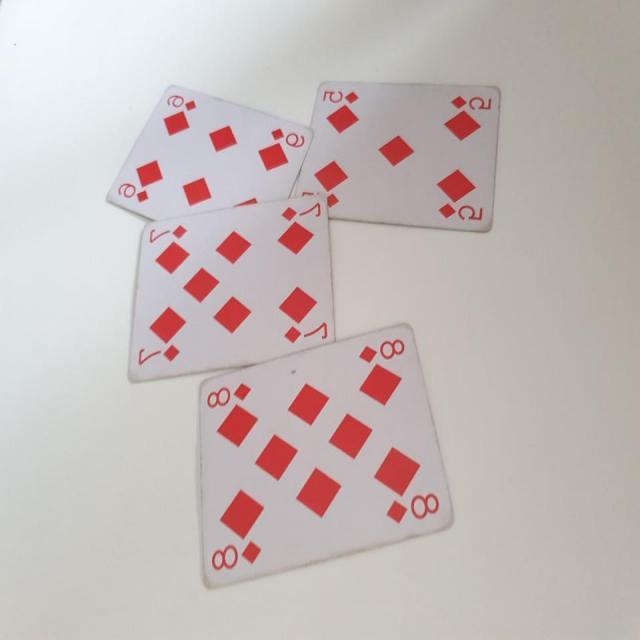5 of diamonds: (294, 79, 508, 240)
6 of diamonds: (104, 84, 314, 224)
7 of diamonds: (126, 197, 335, 384)
8 of diamonds: (196, 320, 454, 592)
